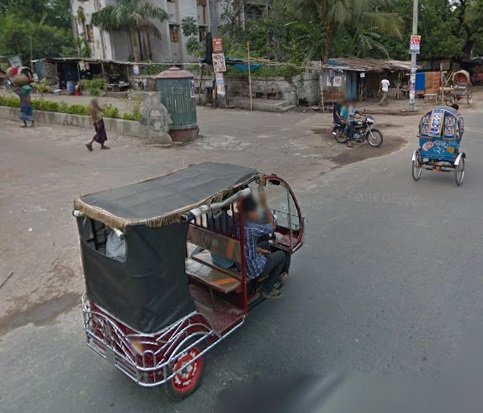bike: (331, 108, 383, 150)
easybike: (72, 163, 305, 400), (412, 105, 467, 185), (444, 71, 472, 105)
